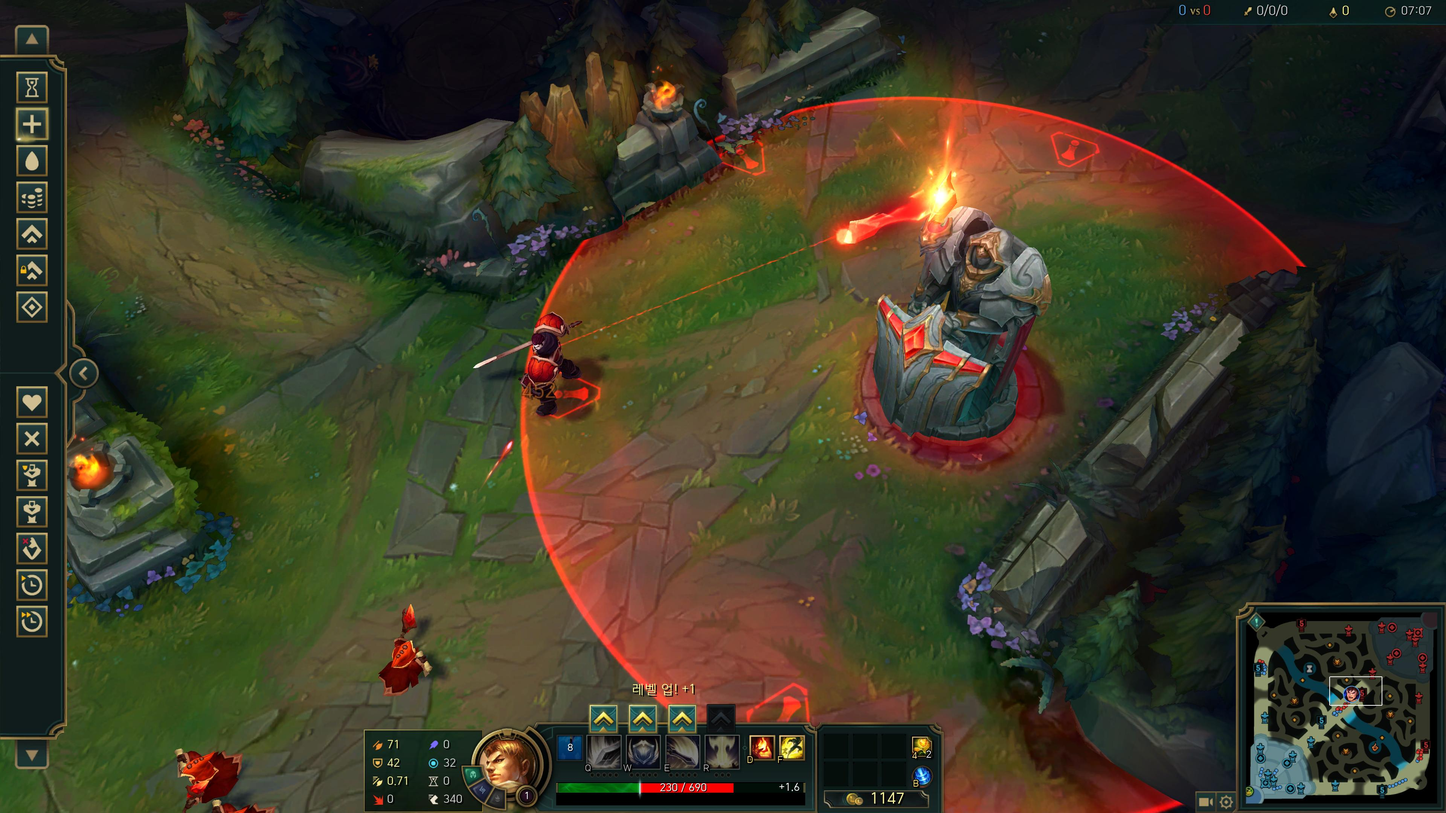enemy-caster-minion: (377, 604, 432, 694)
enemy-tower: (864, 172, 1054, 467)
